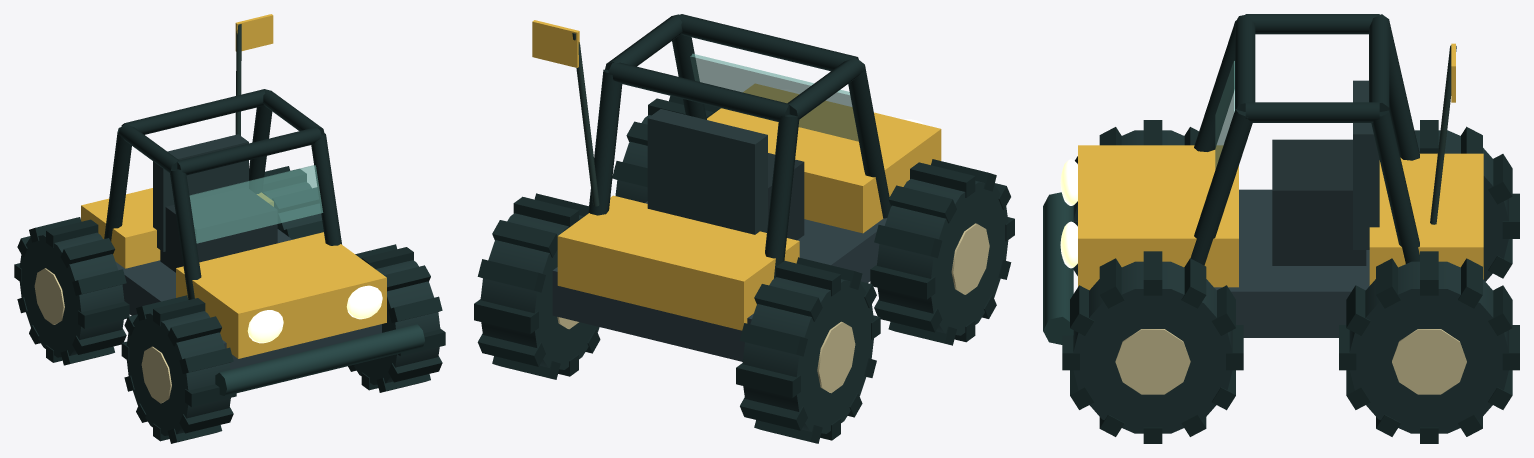
The model's file is buggy.glb.
The picture shows the model from 3 angles, left to right: view 1: azimuth 30°, elevation 25°; view 2: azimuth 150°, elevation 25°; view 3: azimuth 270°, elevation 25°; orthographic projection. The views are drawn at different scales.
Visible parts, largest first — view 1: tire (×4), paint-hood, tread (×21), windshield, seat, bumper, cage-cross (×2), cage-front (×2), seat-back, chassis, paint-rear, cage-rear (×2) (+5 smaller); view 2: tire (×4), tread (×21), paint-rear, paint-hood, seat-back, chassis, cage-cross (×2), cage-rear (×2), windshield, hub (×2), cage-front (×2), cage-top (×2) (+3 smaller); view 3: tire (×4), paint-hood, tread (×24), chassis, seat, paint-rear, hub (×2), cage-front (×2), cage-top (×2), cage-rear (×2), cage-cross (×2), bumper (+4 smaller).
Boxes of the visible parts, x1,y1,x2,y2 form: tire (×4): (19, 182, 440, 435); paint-hood: (176, 232, 386, 358); tread (×21): (46, 169, 445, 443); windshield: (189, 165, 322, 243); seat: (160, 187, 277, 272); bumper: (215, 324, 424, 395); cage-cross (×2): (121, 89, 321, 175); cage-front (×2): (169, 133, 341, 299); seat-back: (153, 134, 248, 251); chassis: (115, 229, 381, 369); paint-rear: (81, 188, 273, 268); cage-rear (×2): (104, 105, 272, 241); tire (×4): (480, 115, 1008, 433); tread (×21): (474, 159, 996, 443); paint-rear: (557, 195, 799, 330); paint-hood: (707, 83, 941, 233); seat-back: (647, 109, 767, 234); chassis: (552, 201, 886, 361); cage-cross (×2): (608, 14, 858, 121); cage-rear (×2): (588, 69, 799, 278); windshield: (690, 54, 858, 141); hub (×2): (817, 223, 989, 393); cage-front (×2): (672, 34, 891, 218); cage-top (×2): (605, 14, 863, 119); tire (×4): (1073, 130, 1508, 433); paint-hood: (1078, 145, 1238, 290); tread (×24): (1062, 120, 1519, 410); chassis: (1214, 189, 1369, 337); seat: (1272, 139, 1366, 265); paint-rear: (1369, 153, 1483, 285); hub (×2): (1115, 329, 1466, 394); cage-front (×2): (1190, 20, 1252, 265); cage-top (×2): (1245, 14, 1379, 122); cage-rear (×2): (1371, 21, 1419, 263); cage-cross (×2): (1235, 14, 1389, 111); bumper: (1043, 192, 1073, 344).
Bounding box in the file's own units: 2.83 × 3 × 3.55.
